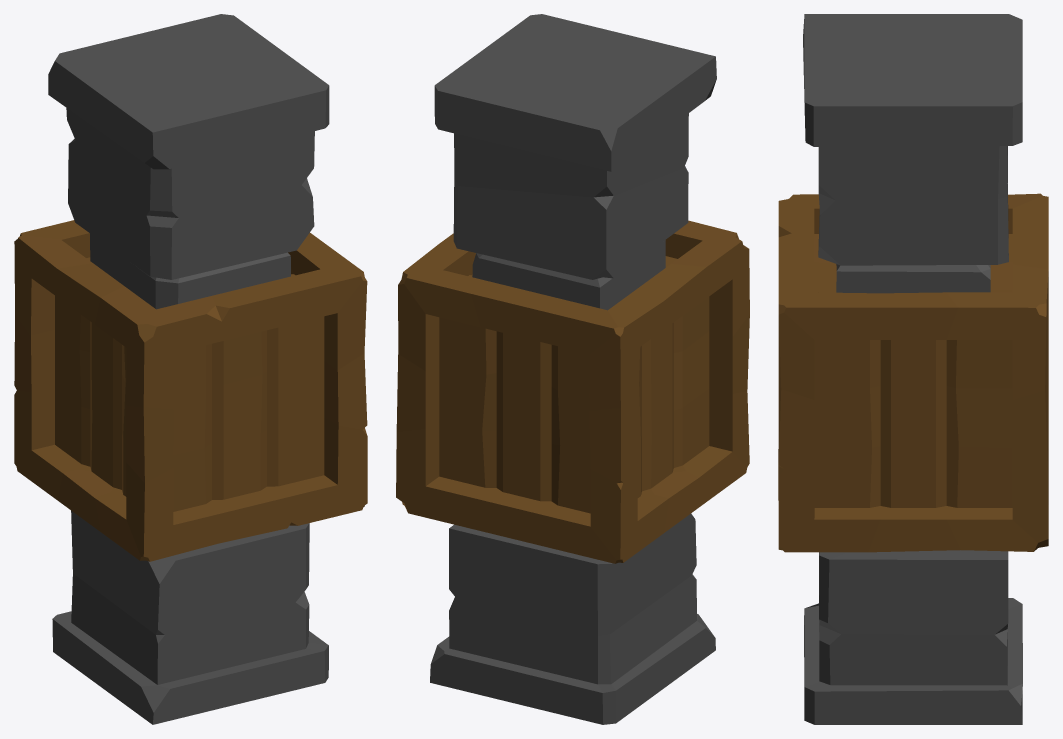
The model's file is PillarAndCrate.fbx.
3 renders of one model, left to right at view 1: azimuth 30°, elevation 25°; view 2: azimuth 150°, elevation 25°; view 3: azimuth 270°, elevation 25°, orthographic. The views are drawn at different scales.
Parts seen in each view (by area): view 1: Cube.024, crate.011; view 2: Cube.024, crate.011; view 3: Cube.024, crate.011.
Part boxes in pixels (x1=…): Cube.024: x1=48, y1=14, x2=329, y2=724; crate.011: x1=14, y1=220, x2=367, y2=561; Cube.024: x1=430, y1=14, x2=716, y2=724; crate.011: x1=396, y1=220, x2=749, y2=563; Cube.024: x1=803, y1=14, x2=1022, y2=724; crate.011: x1=778, y1=193, x2=1048, y2=552.
Bounding box in the file's own units: 121 × 303 × 120.
